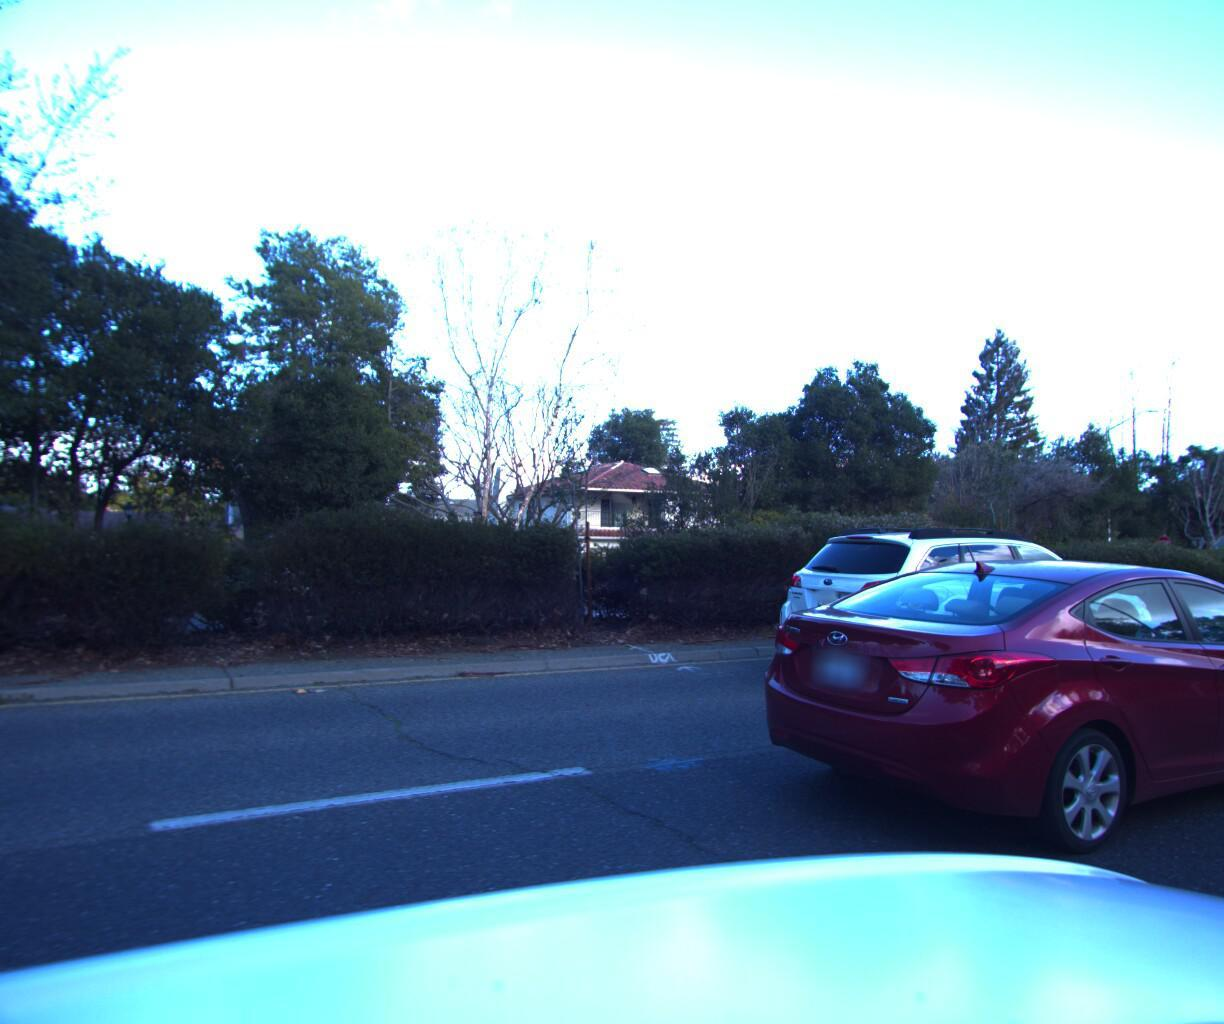car: (709, 543, 1224, 907), (762, 517, 1165, 712)
